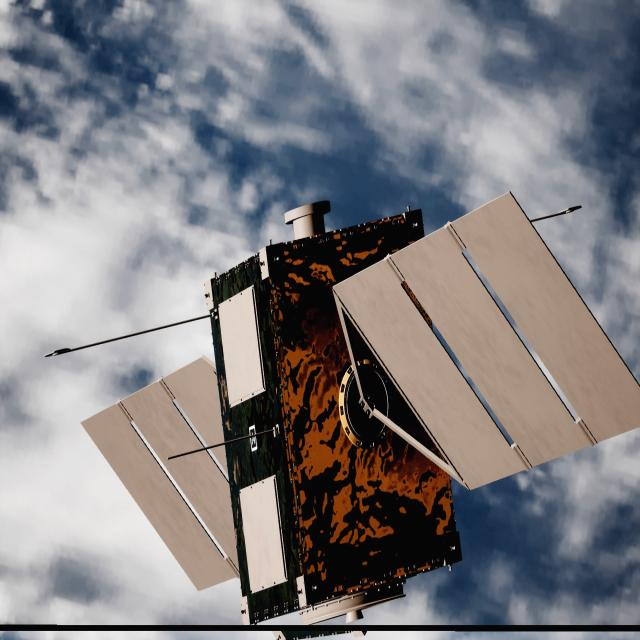medium_debris: (82, 194, 640, 627)
